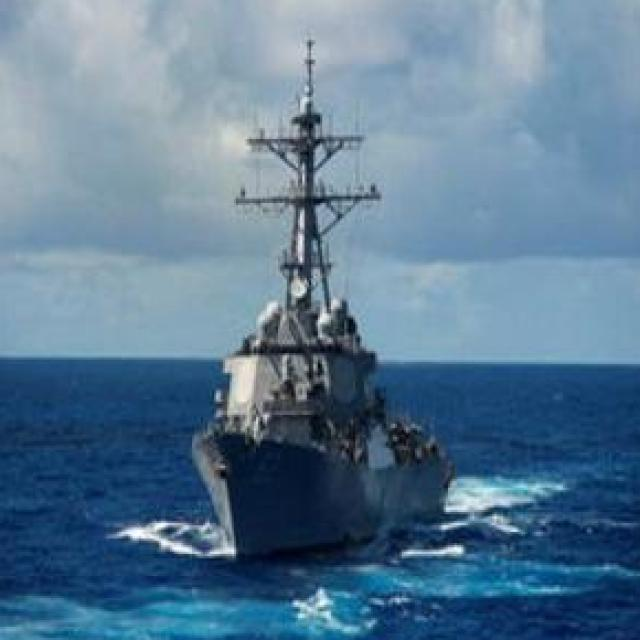navalvessels: (111, 70, 488, 528)
